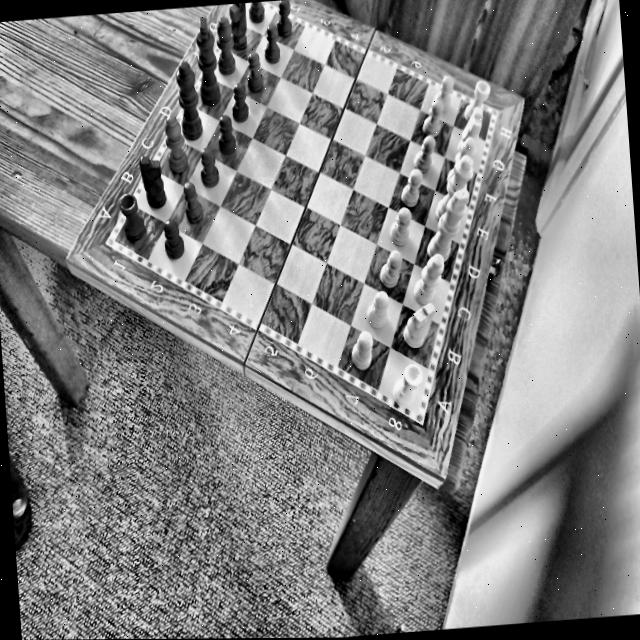black-bishop: (162, 114, 188, 176), (213, 12, 233, 75)
black-king: (194, 16, 219, 106)
black-knight: (139, 150, 165, 211), (228, 3, 250, 52)
black-pawn: (178, 179, 204, 222), (260, 22, 282, 68), (160, 217, 183, 259), (197, 149, 220, 187), (244, 49, 263, 94), (216, 113, 236, 155), (230, 79, 248, 122), (275, 0, 294, 38)
black-queen: (176, 58, 203, 140)
black-rook: (118, 185, 146, 246), (248, 1, 265, 24)
white-bishop: (410, 254, 450, 306), (451, 135, 481, 173)
white-king: (417, 189, 476, 265)
white-knight: (398, 300, 440, 354), (454, 105, 488, 147)
white-pawn: (372, 248, 406, 291), (384, 207, 415, 252), (362, 289, 393, 331), (396, 168, 427, 210), (347, 330, 376, 372), (408, 136, 438, 174), (432, 71, 456, 111), (418, 101, 446, 135)
white-queen: (430, 151, 483, 227)
white-rook: (391, 360, 425, 413), (460, 78, 492, 124)
